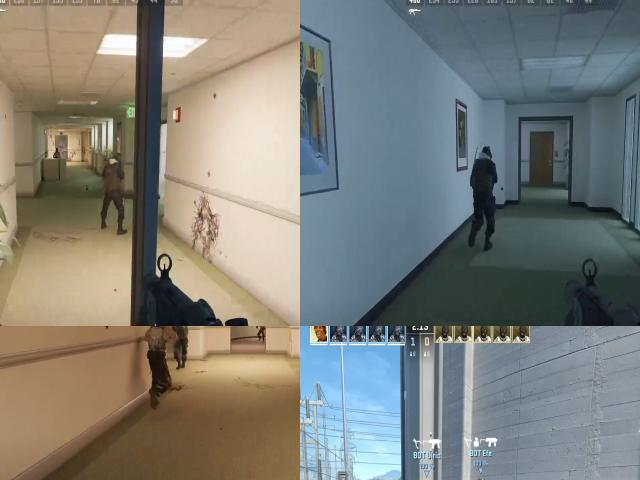CT: (469, 139, 502, 210), (97, 151, 127, 209), (174, 326, 194, 361)
CT-Head: (478, 144, 494, 162), (106, 153, 122, 170)
T: (144, 326, 175, 364), (257, 326, 266, 337)
